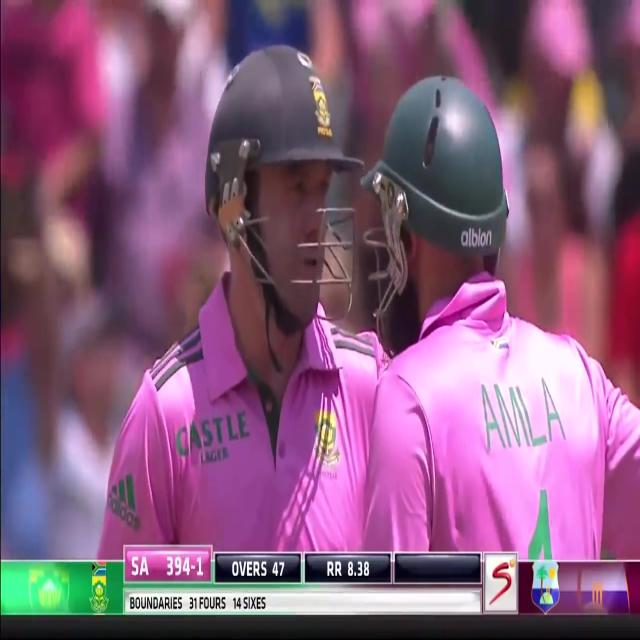Ball: (359, 84, 640, 560), (100, 48, 358, 554)
